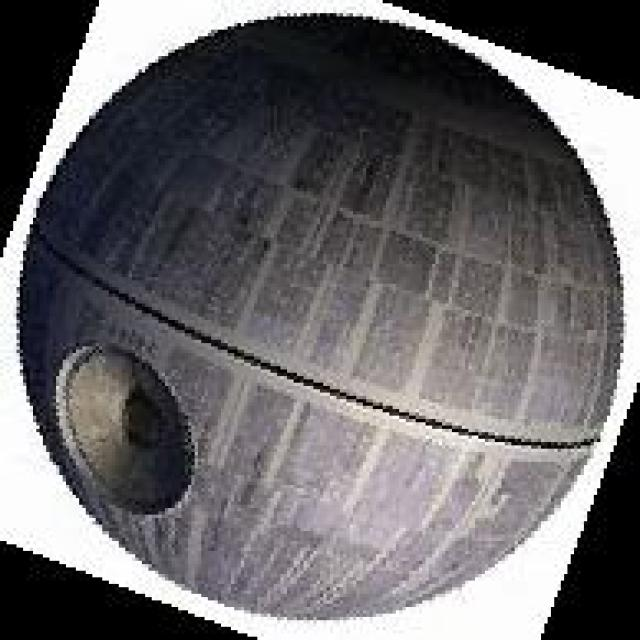Death Star: (0, 0, 633, 627)
